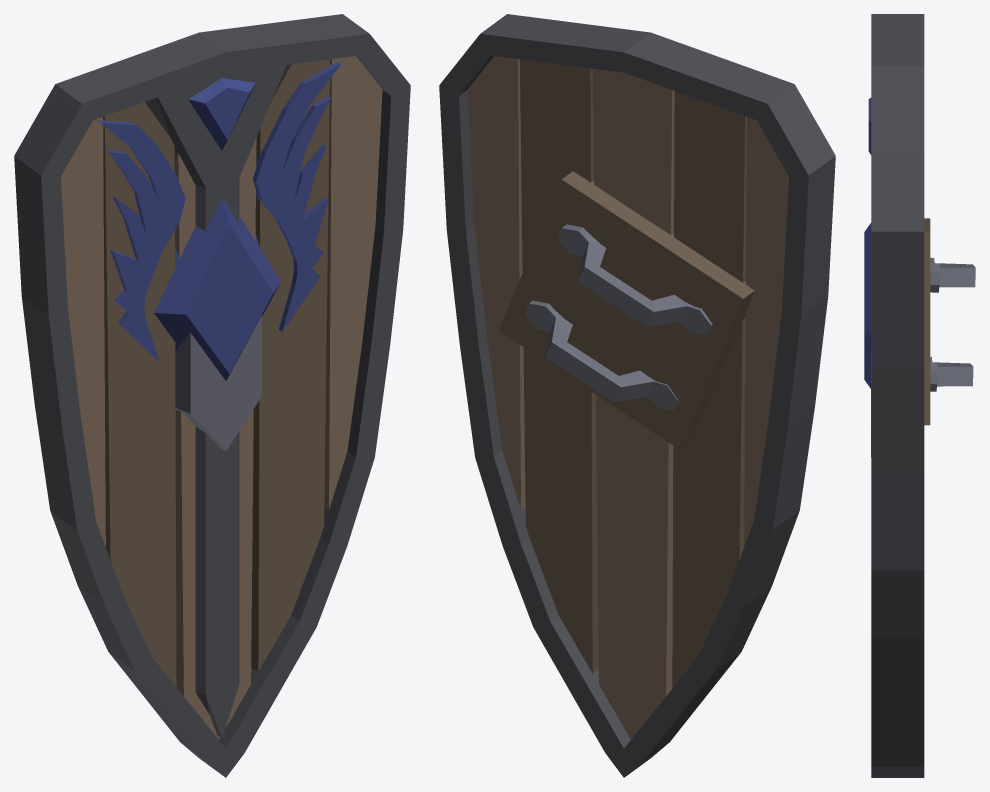
Rendered from _Shield_6.fbx.
3 renders of one model, left to right at view 1: azimuth 30°, elevation 25°; view 2: azimuth 150°, elevation 25°; view 3: azimuth 270°, elevation 25°, orthographic. The views are drawn at different scales.
Visible parts, largest first — view 1: Shield_6; view 2: Shield_6; view 3: Shield_6.
Boxes of the visible parts, x1=… form: Shield_6: x1=14, y1=14, x2=410, y2=777; Shield_6: x1=439, y1=14, x2=835, y2=777; Shield_6: x1=864, y1=14, x2=975, y2=777.
Size of the model in its own units: 57.31 by 108 by 15.28.
